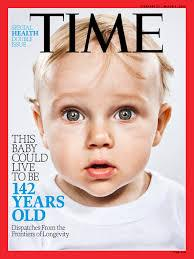Printing industry: (2, 2, 194, 259)
